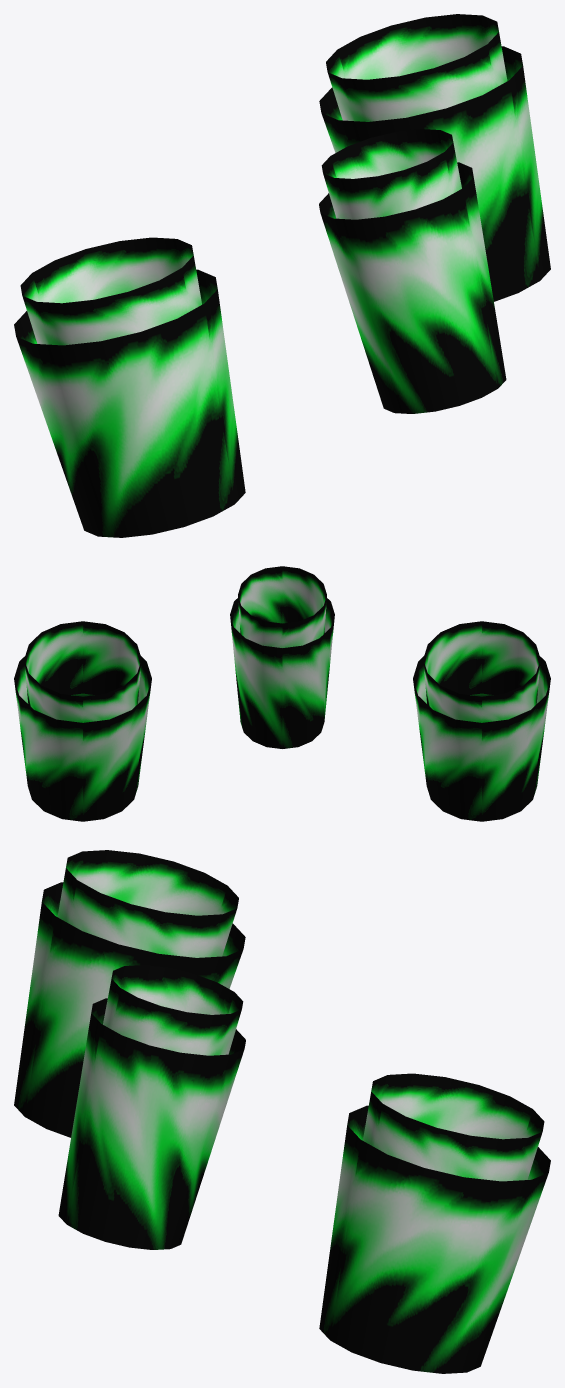
The model's file is 4T0NJetpackMeshFlare.obj.
The picture shows the model from 3 angles, top to bottom: view 1: azimuth 30°, elevation 25°; view 2: azimuth 150°, elevation 25°; view 3: azimuth 270°, elevation 25°; orthographic projection. The views are drawn at different scales.
Visible parts, largest first — view 1: 4-T0NJetpackMeshFlare_4-T0N_Jetpack_Flare; view 2: 4-T0NJetpackMeshFlare_4-T0N_Jetpack_Flare; view 3: 4-T0NJetpackMeshFlare_4-T0N_Jetpack_Flare.
Part boxes in pixels (bbox=[...]): 4-T0NJetpackMeshFlare_4-T0N_Jetpack_Flare: bbox=[14, 14, 550, 537]; 4-T0NJetpackMeshFlare_4-T0N_Jetpack_Flare: bbox=[14, 566, 550, 821]; 4-T0NJetpackMeshFlare_4-T0N_Jetpack_Flare: bbox=[14, 850, 550, 1373].
Size of the model in its own units: 1.19 by 0.5187 by 0.8574.
1 material, 1 textured.
